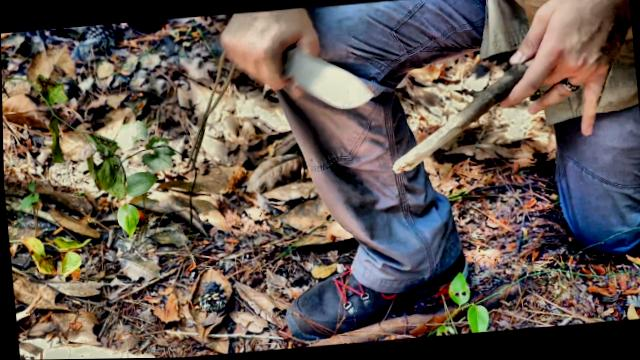knife: (240, 23, 380, 123)
